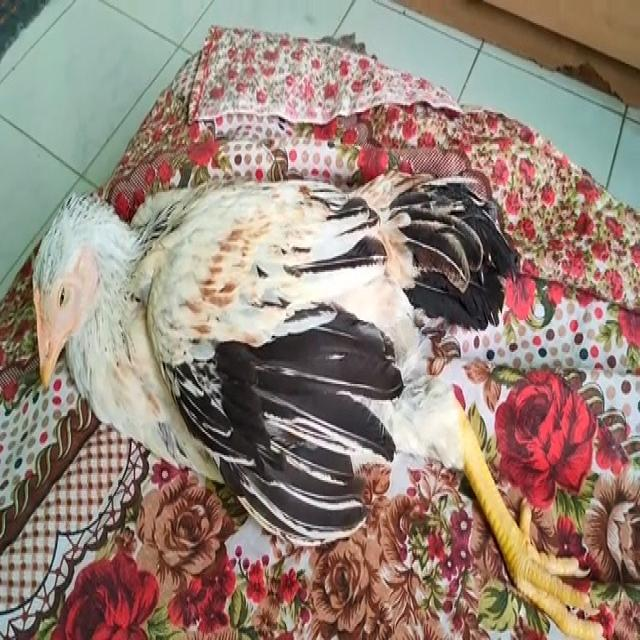leg stretching: (27, 135, 585, 637)
